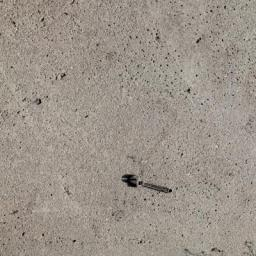FOD: (121, 172, 175, 197)
